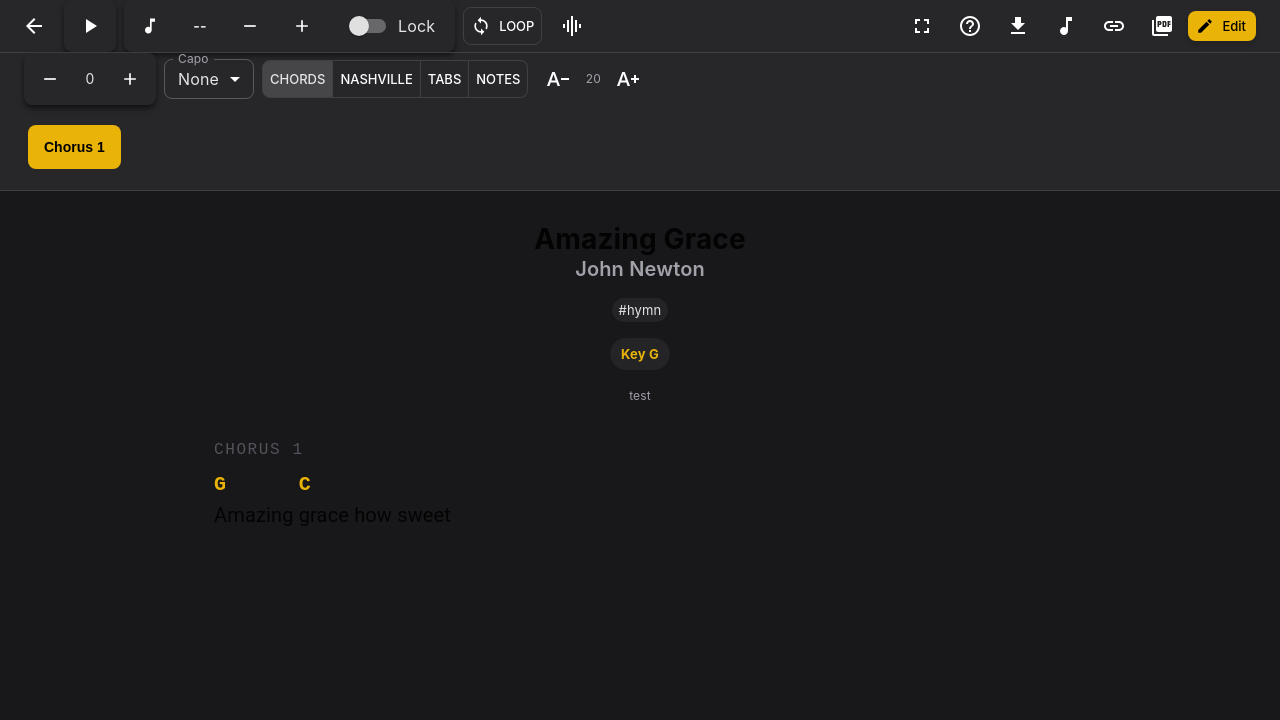
Test case: SongViewer › shows the transposed key and the original key after transposing up
Step 1. Click the button named "transpose up one semitone" → [130, 79], box top-left (108, 57), bottom-right (152, 101)
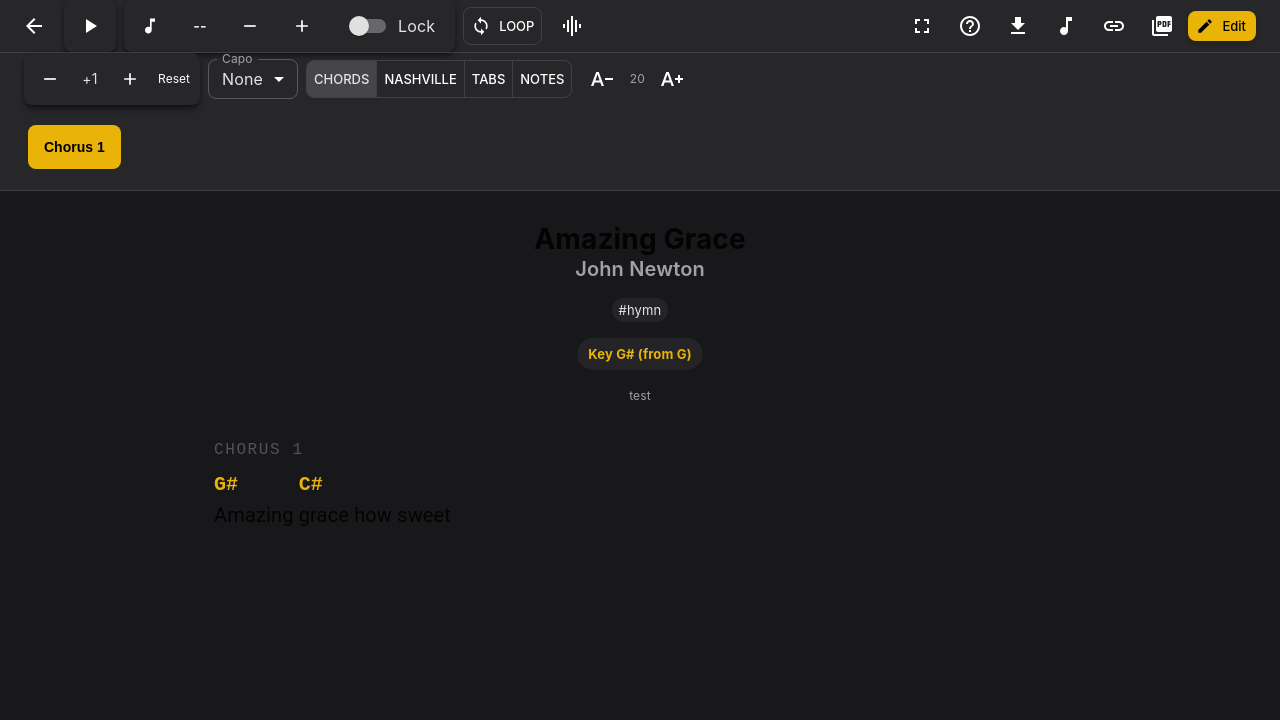
Expected: the text "Key G# (from G)" is shown, top-left (588, 346), bottom-right (692, 362)
